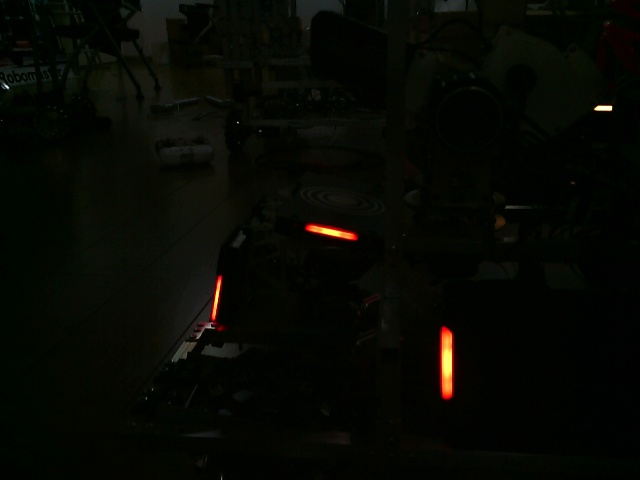lamp: (436, 325, 457, 405), (213, 272, 222, 324)
